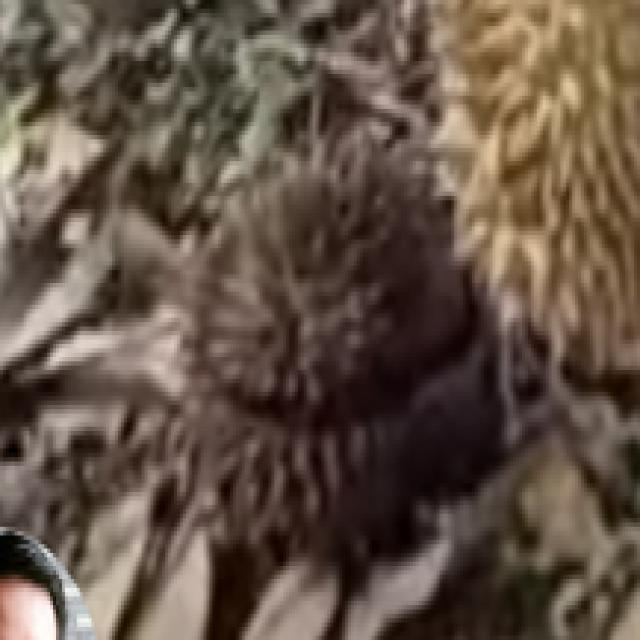defective: (180, 133, 519, 559)
